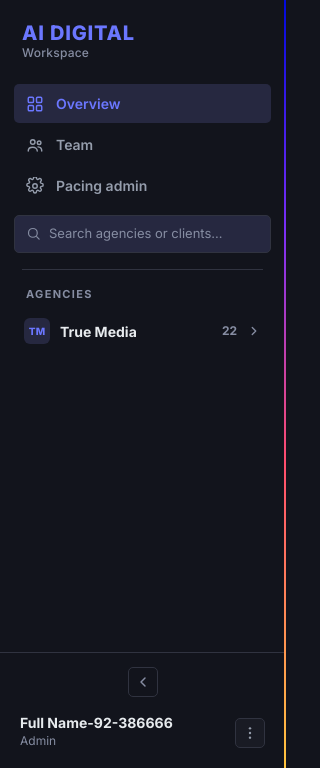
Scenario: Sidebar › should read only what a search for the agency's own name left out
Type "true media" into the search field labelled "Search agencies or clients…".
click(154, 234); type("true media")  # box x1=49 y1=224 x2=259 y2=244
(page scrolled)
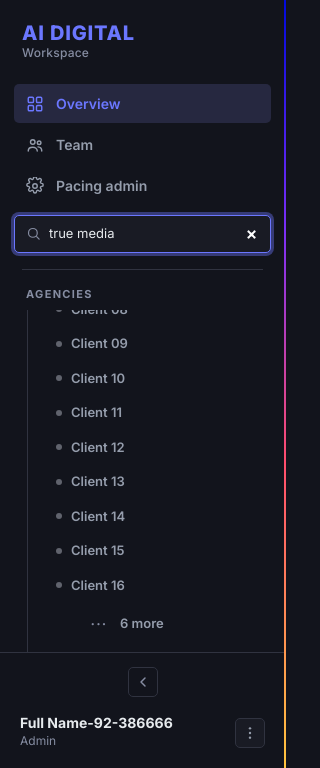
Note: the step is pressed once
Click the button "··· 6 more".
click(174, 624)  # box x1=76 y1=605 x2=271 y2=642
(page scrolled)
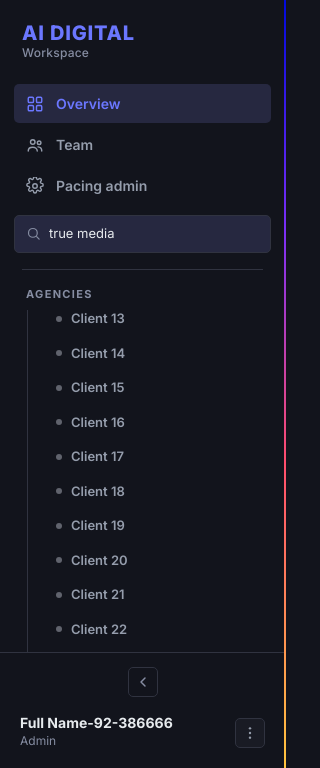
Now the link "Client 22" is shown, box x1=56 y1=620 x2=127 y2=636
Now the button with class "sidebar__clients-more" is gone
